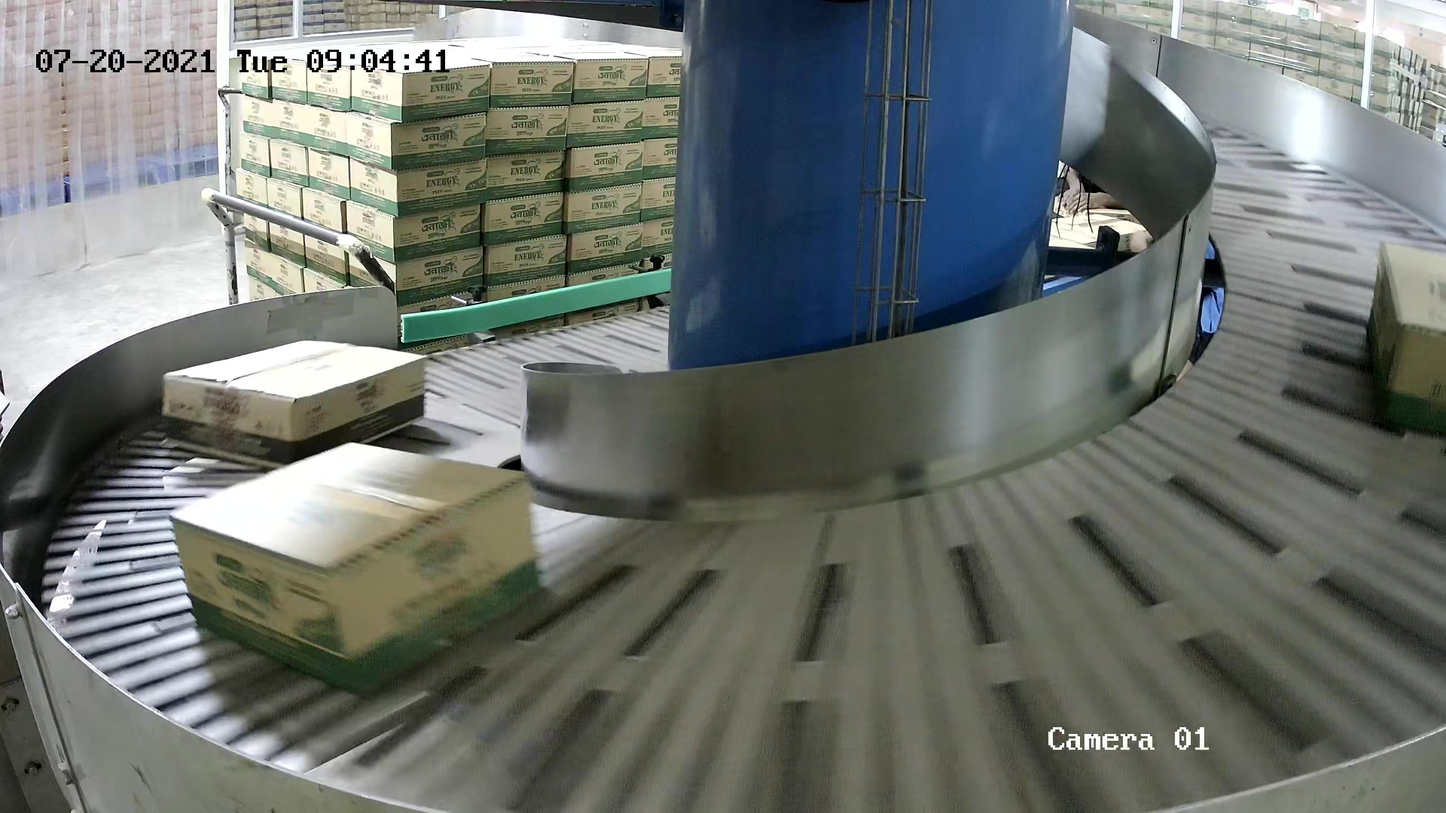Box: (166, 439, 542, 697), (160, 338, 427, 469), (1365, 240, 1446, 435)
